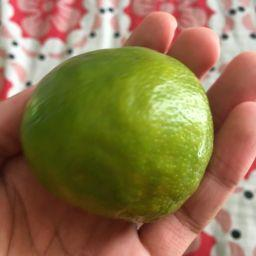Unripe: (21, 49, 214, 224)
